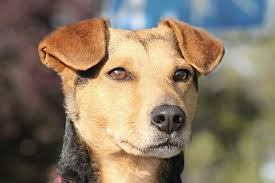dog: (101, 58, 195, 159)
